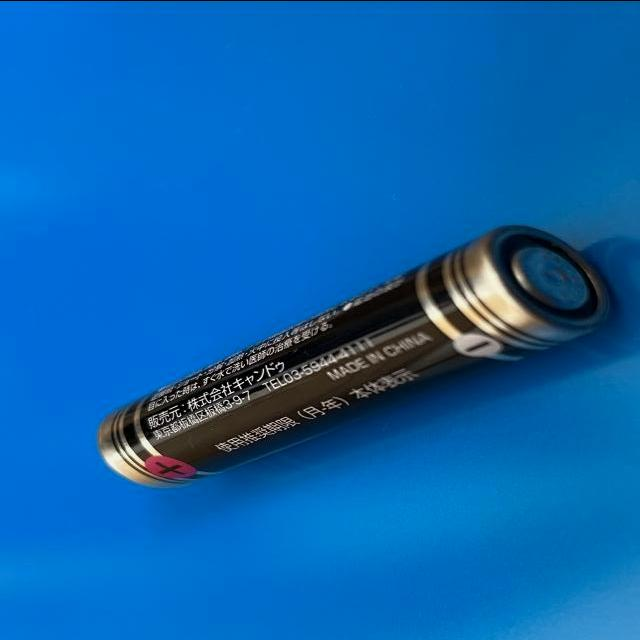AAA: (92, 222, 614, 488)
